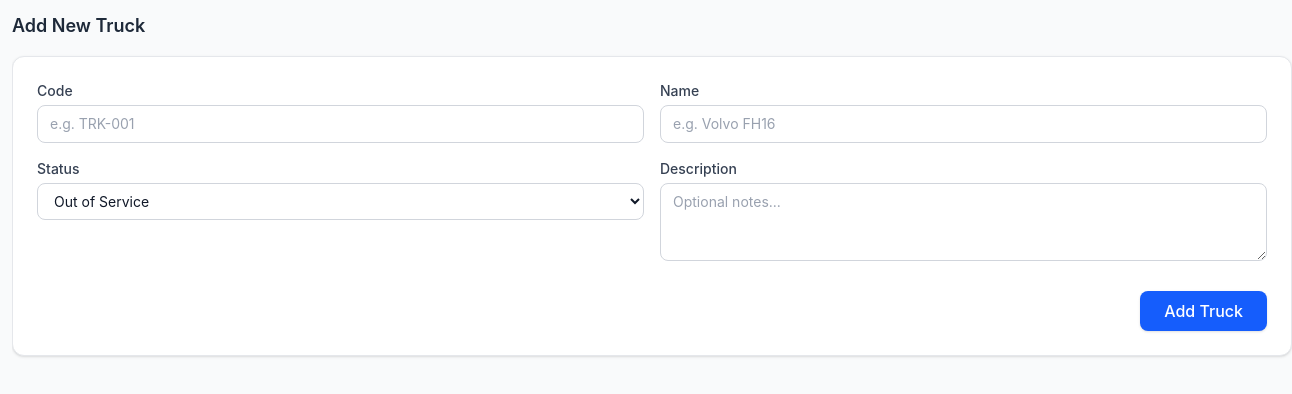
AddTruck › shows validation errors when submitting empty required fields
The width and height of the screenshot is (1292, 394).
Click the button "Add Truck".
click(1204, 311)  # box [1140,291,1267,331]
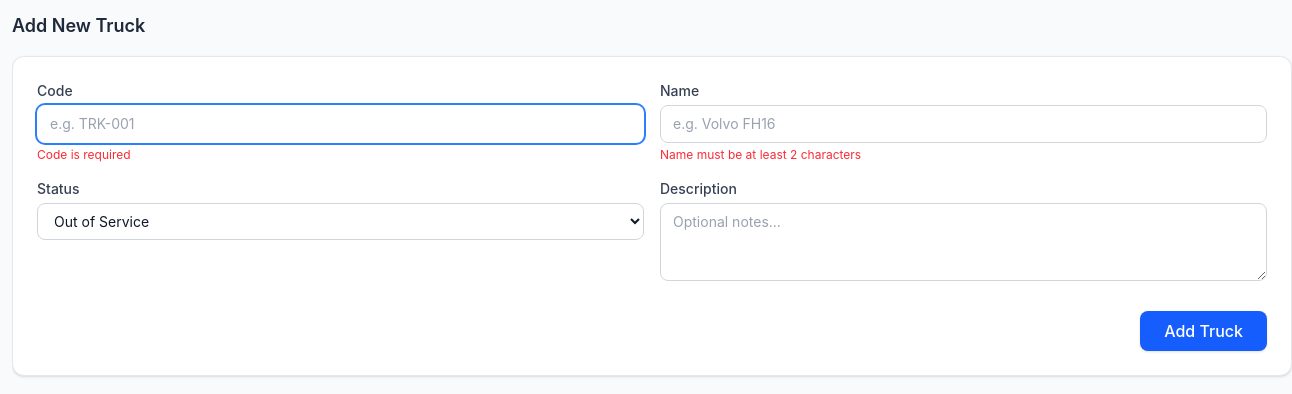
Expected: the text "Code is required" is shown, [37,147,131,162]
Expected: the text "Name must be at least 2 characters" is shown, [660,147,861,162]
